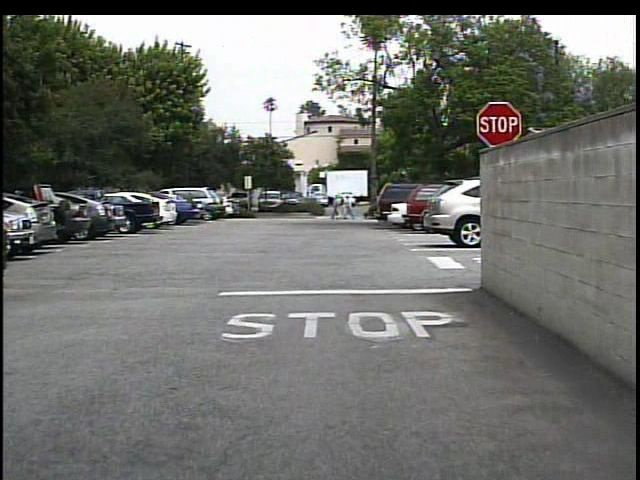person: (342, 196, 356, 224), (327, 196, 341, 222)
